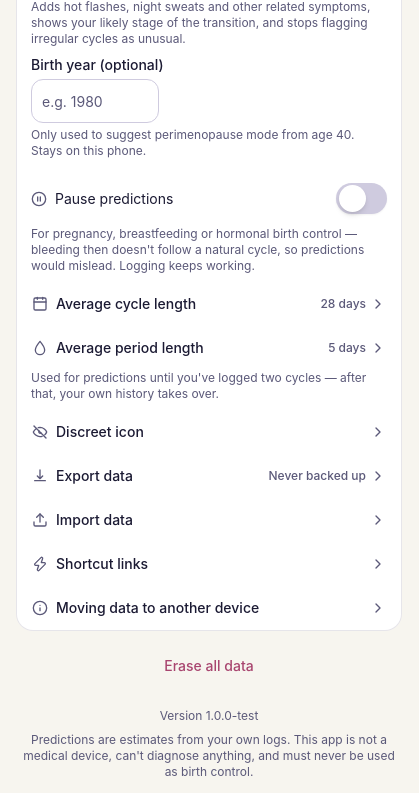
Test: SettingsScreen › explains shortcut links for iOS Shortcuts / Action Button (T83)
(page scrolled)
Click the button "Shortcut links": (102, 564) left=17, top=542, right=401, bottom=586
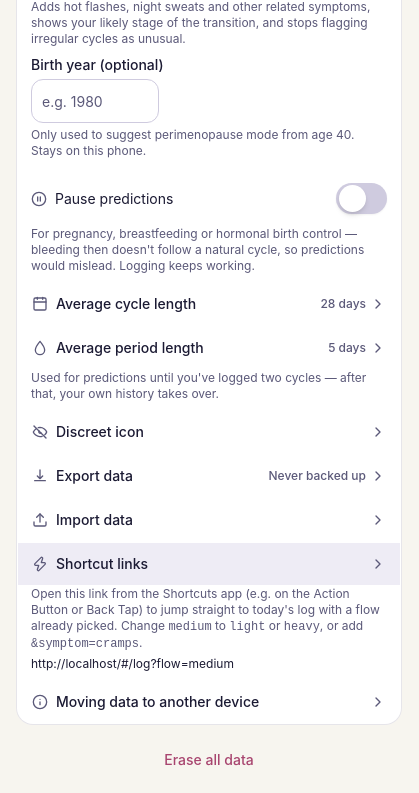
Expected: the text "#/log?flow=medium" is shown, left=31, top=656, right=234, bottom=671
